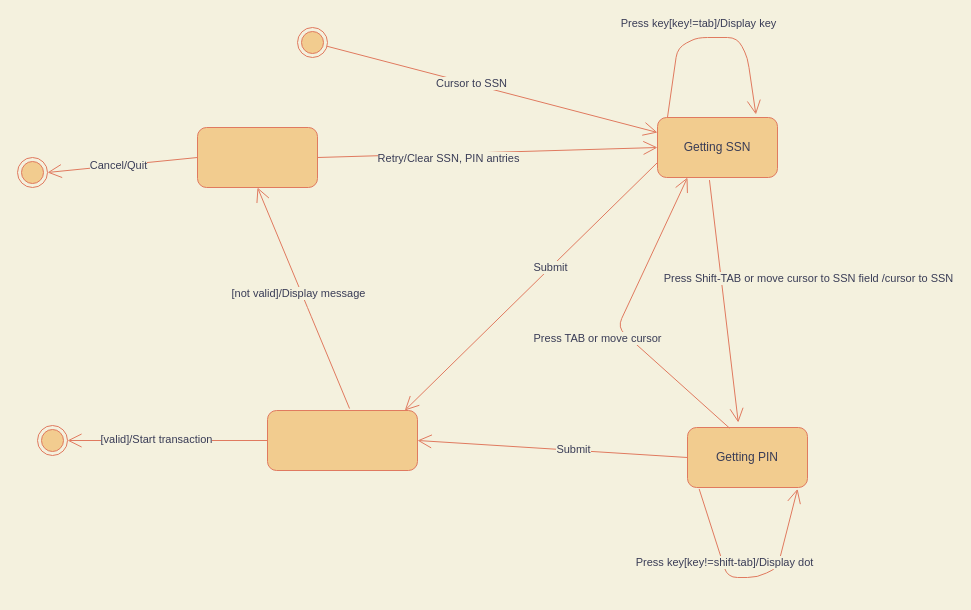
The diagram is 971 pixels wide and 610 high, and some of its shapes have lost their labels. The centre of each missing label's shape, as x and y in pixels:
"Rejecting" belongs at point (257, 157).
"Validation do/validate SSN and PIN" belongs at point (342, 440).
